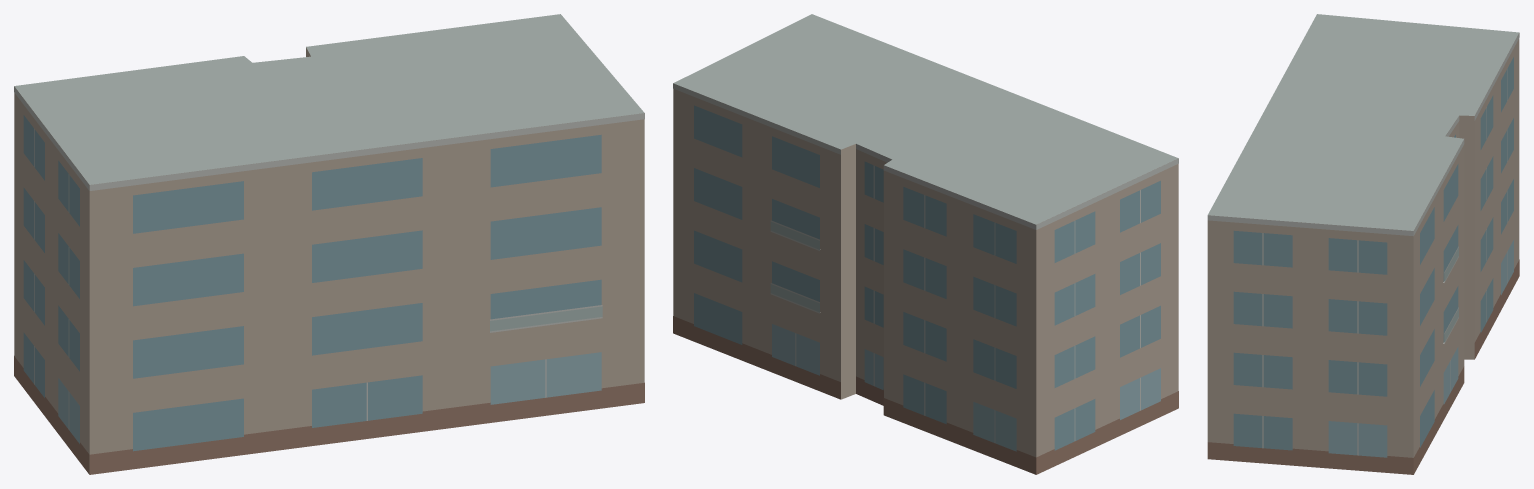
Rendered from survey-upis-32847238.glb.
3 renders of one model, left to right at view 1: azimuth 30°, elevation 25°; view 2: azimuth 150°, elevation 25°; view 3: azimuth 270°, elevation 25°, orthographic. The views are drawn at different scales.
Parts seen in each view (by area): view 1: survey-upis-32847238.tmp; view 2: survey-upis-32847238.tmp; view 3: survey-upis-32847238.tmp.
Part boxes in pixels (x1=…): survey-upis-32847238.tmp: x1=14, y1=14, x2=644, y2=474; survey-upis-32847238.tmp: x1=673, y1=14, x2=1178, y2=474; survey-upis-32847238.tmp: x1=1207, y1=14, x2=1519, y2=474.
Bounding box in the file's own units: 21.96 × 11.5 × 13.34.
